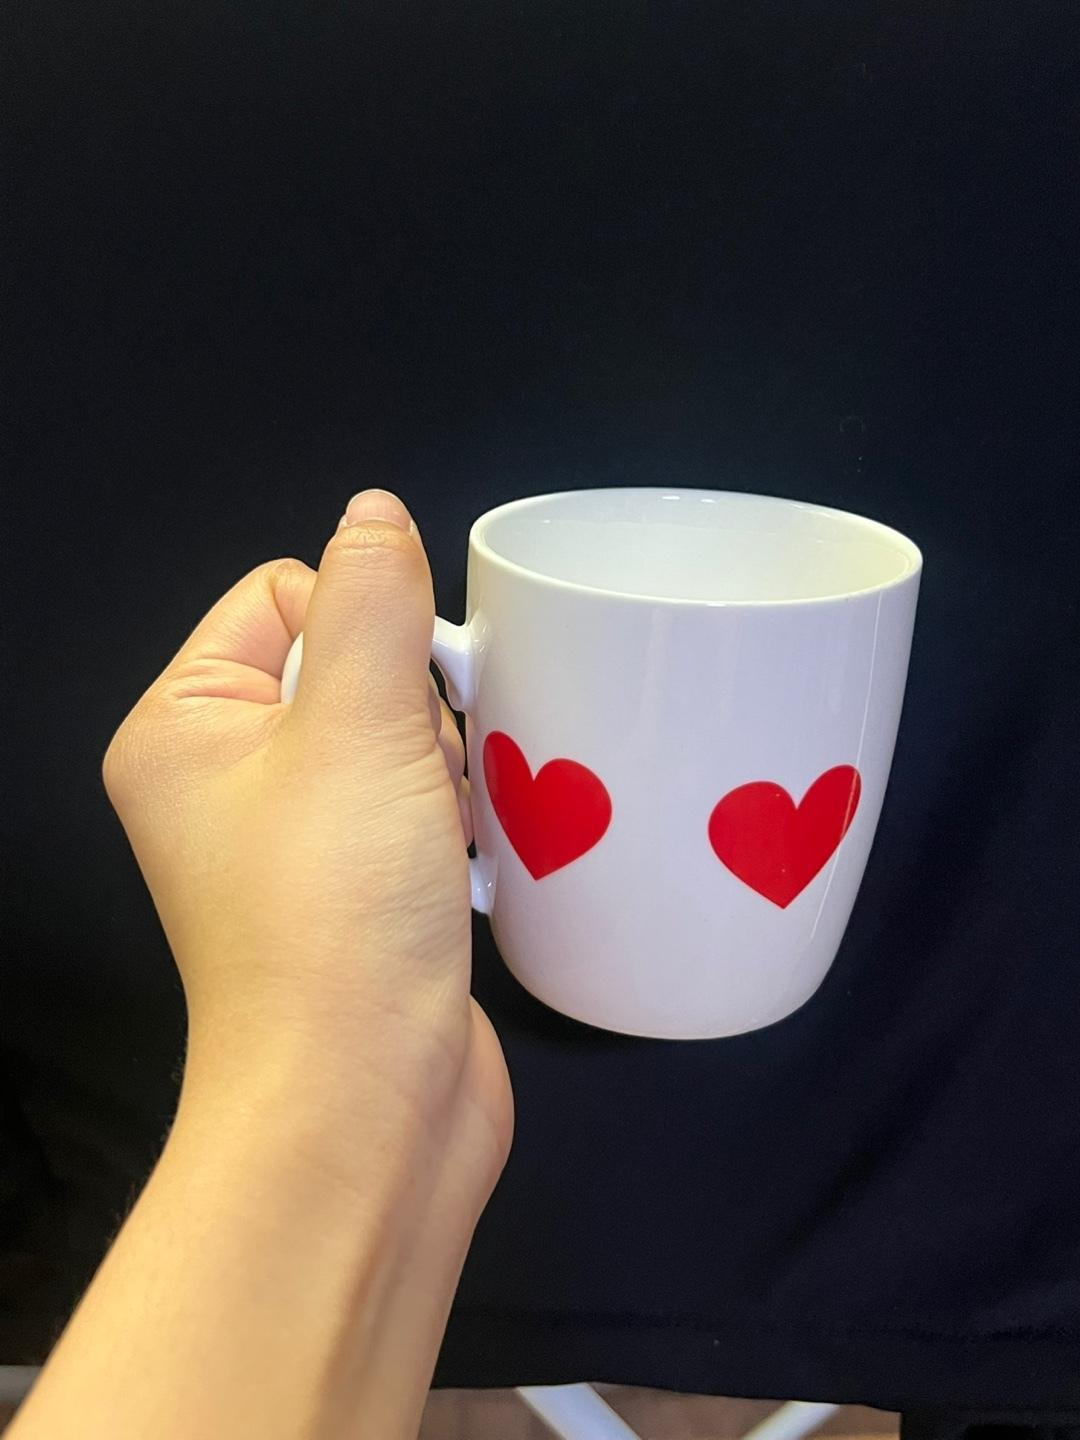cup: (96, 478, 932, 1208)
